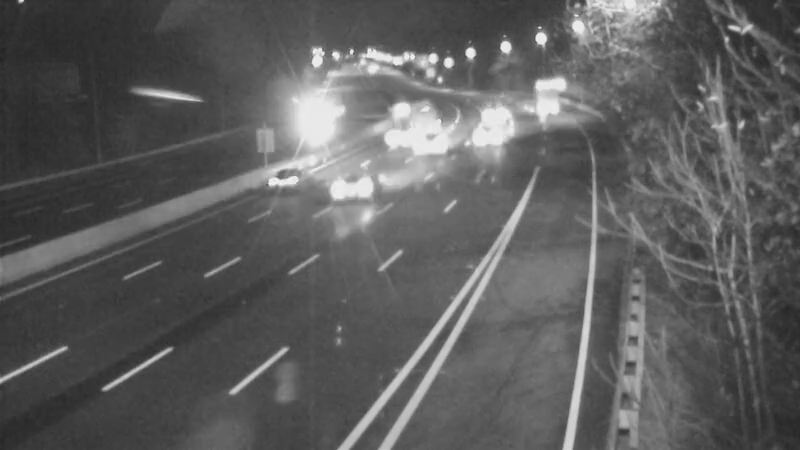vehicle: (316, 138, 396, 218), (237, 142, 317, 222), (512, 70, 562, 120), (469, 90, 519, 140), (379, 87, 429, 137), (461, 106, 511, 156), (410, 118, 460, 168), (287, 90, 337, 140)
